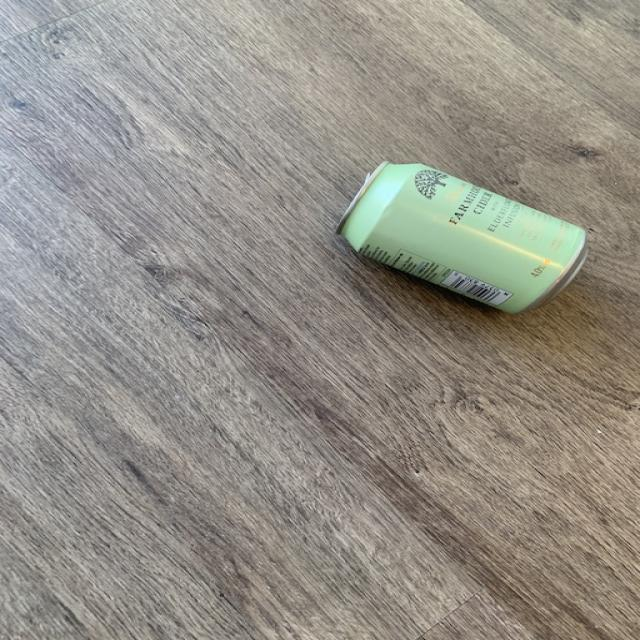litter: (308, 154, 608, 338)
